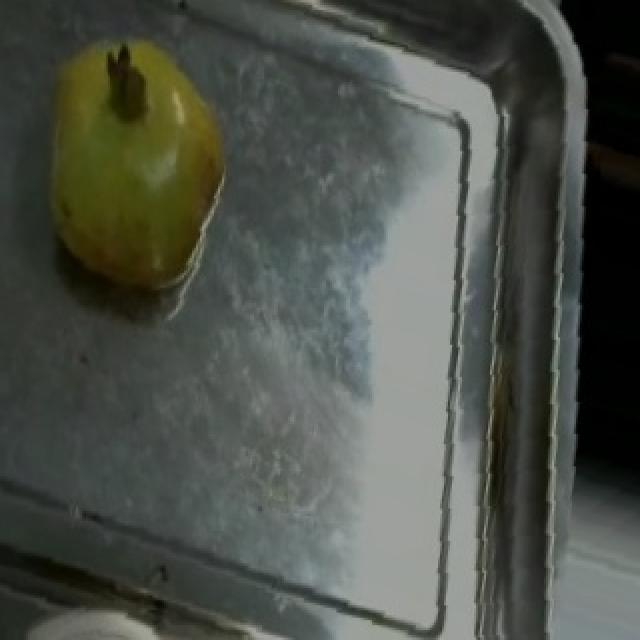fruit: (4, 0, 252, 253)
